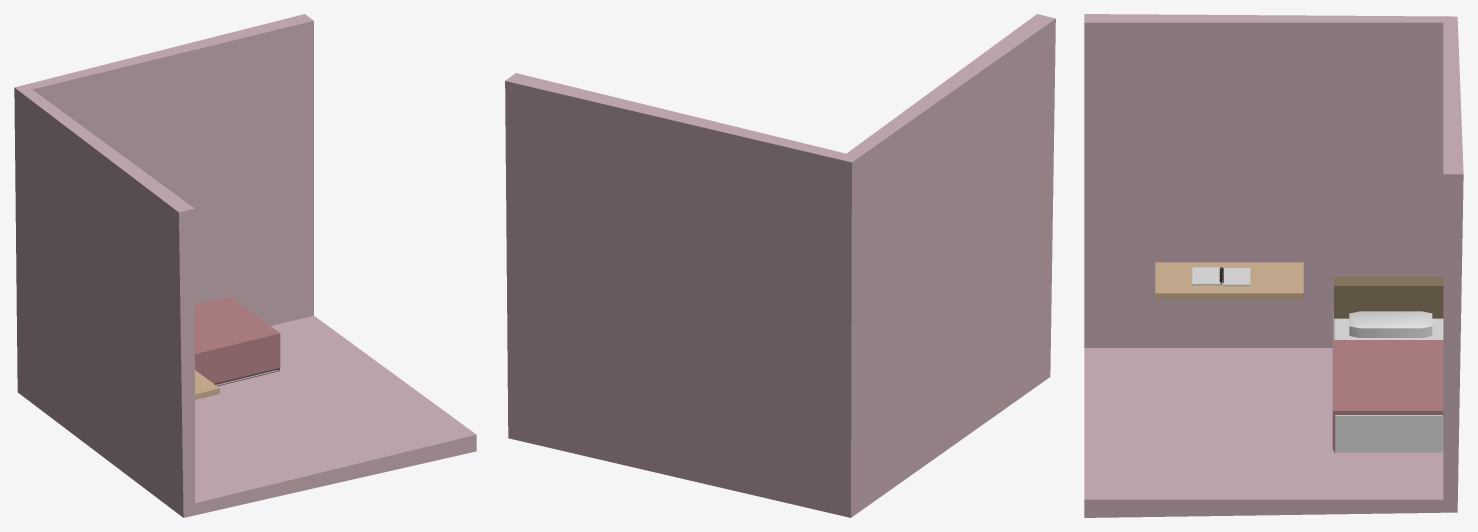
Rendered from room.glb.
3 views of the same model, side by side, from view 1: azimuth 30°, elevation 25°; view 2: azimuth 150°, elevation 25°; view 3: azimuth 270°, elevation 25° (orthographic). The views are drawn at different scales.
Parts seen in each view (by area): view 1: Cube, Cube.006; view 2: Cube; view 3: Cube, Cube.006, Cube.004, Cube.001, Cube.005, Cube.007, Cube.003, Cube.002.
Boxes of the visible parts, left/top/right/bottom form: Cube: left=14, top=14, right=476, bottom=517; Cube.006: left=195, top=296, right=280, bottom=386; Cube: left=505, top=14, right=1055, bottom=517; Cube: left=1084, top=14, right=1463, bottom=517; Cube.006: left=1332, top=340, right=1443, bottom=452; Cube.004: left=1333, top=311, right=1443, bottom=452; Cube.001: left=1155, top=262, right=1303, bottom=299; Cube.005: left=1334, top=277, right=1443, bottom=318; Cube.007: left=1349, top=311, right=1432, bottom=337; Cube.003: left=1222, top=268, right=1250, bottom=286; Cube.002: left=1192, top=267, right=1220, bottom=285.
Bounding box in the file's own units: 10.34 × 10.34 × 10.34.
